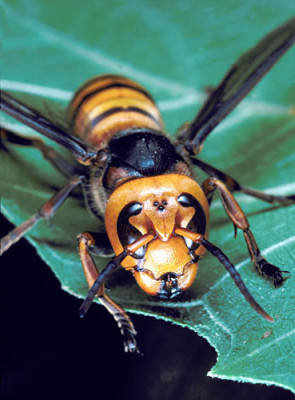asian_giant_hornet: (1, 72, 292, 336)
